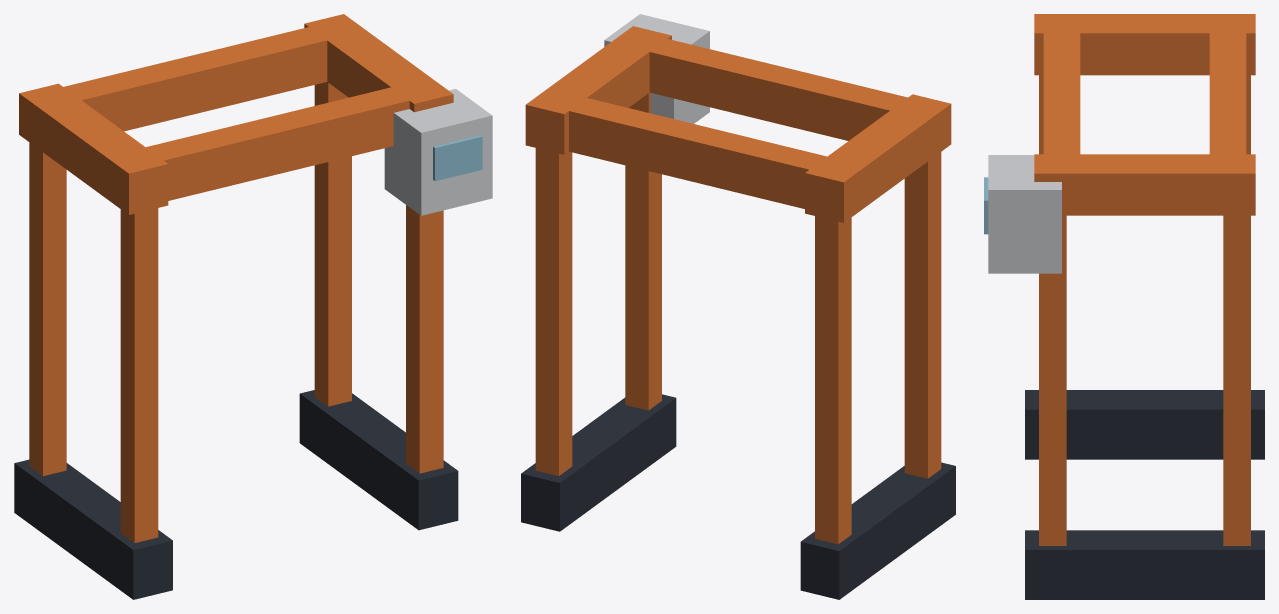
The model's file is straddle.glb.
3 views of the same model, side by side, from view 1: azimuth 30°, elevation 25°; view 2: azimuth 150°, elevation 25°; view 3: azimuth 270°, elevation 25° (orthographic). The views are drawn at different scales.
Parts seen in each view (by area): view 1: straddle; view 2: straddle; view 3: straddle.
Part boxes in pixels (box(x1,y1,x2,y2)): straddle: box(14, 14, 492, 599); straddle: box(521, 14, 955, 599); straddle: box(984, 14, 1264, 599).
Size of the model in its own units: 4.3 by 5.1 by 3.04.
